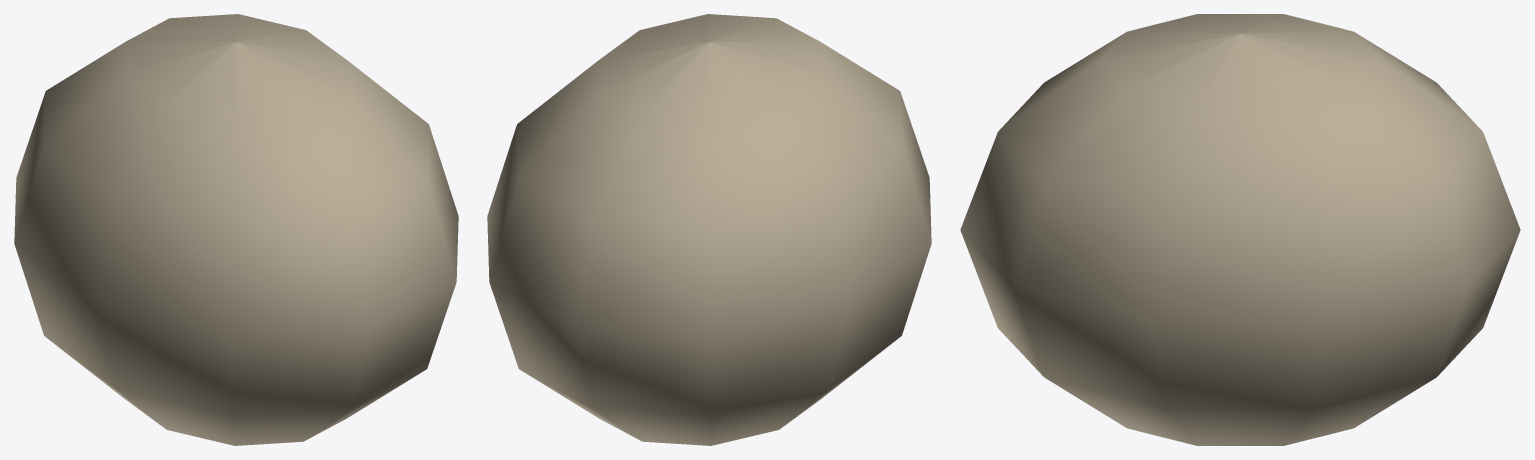
File: sling_stone.fbx
3 views of the same model, side by side, from view 1: azimuth 30°, elevation 25°; view 2: azimuth 150°, elevation 25°; view 3: azimuth 270°, elevation 25° (orthographic). The views are drawn at different scales.
Parts seen in each view (by area): view 1: sling_stone; view 2: sling_stone; view 3: sling_stone.
Part boxes in pixels (<box>): sling_stone: <box>14,14,458,445</box>; sling_stone: <box>487,14,931,445</box>; sling_stone: <box>960,14,1520,445</box>.
Bounding box in the file's own units: 0.0171 × 0.017 × 0.022.
